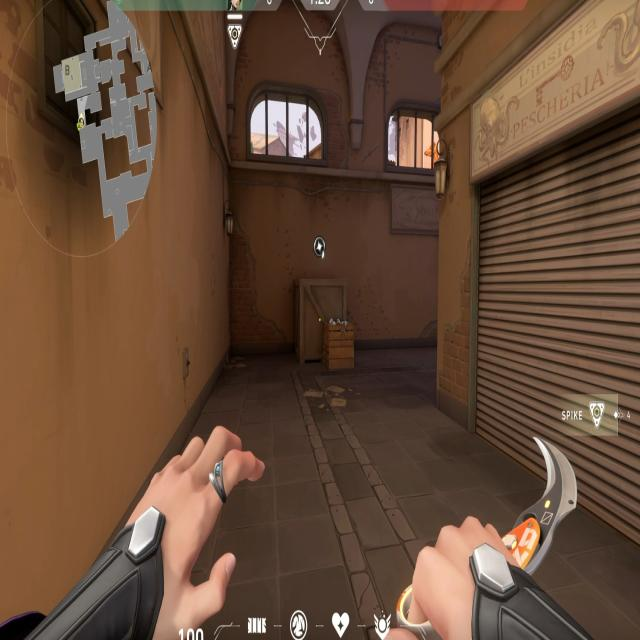B_Main_Wallbang: (291, 226, 358, 368)
Throwables: (239, 73, 333, 178), (377, 94, 441, 185)
